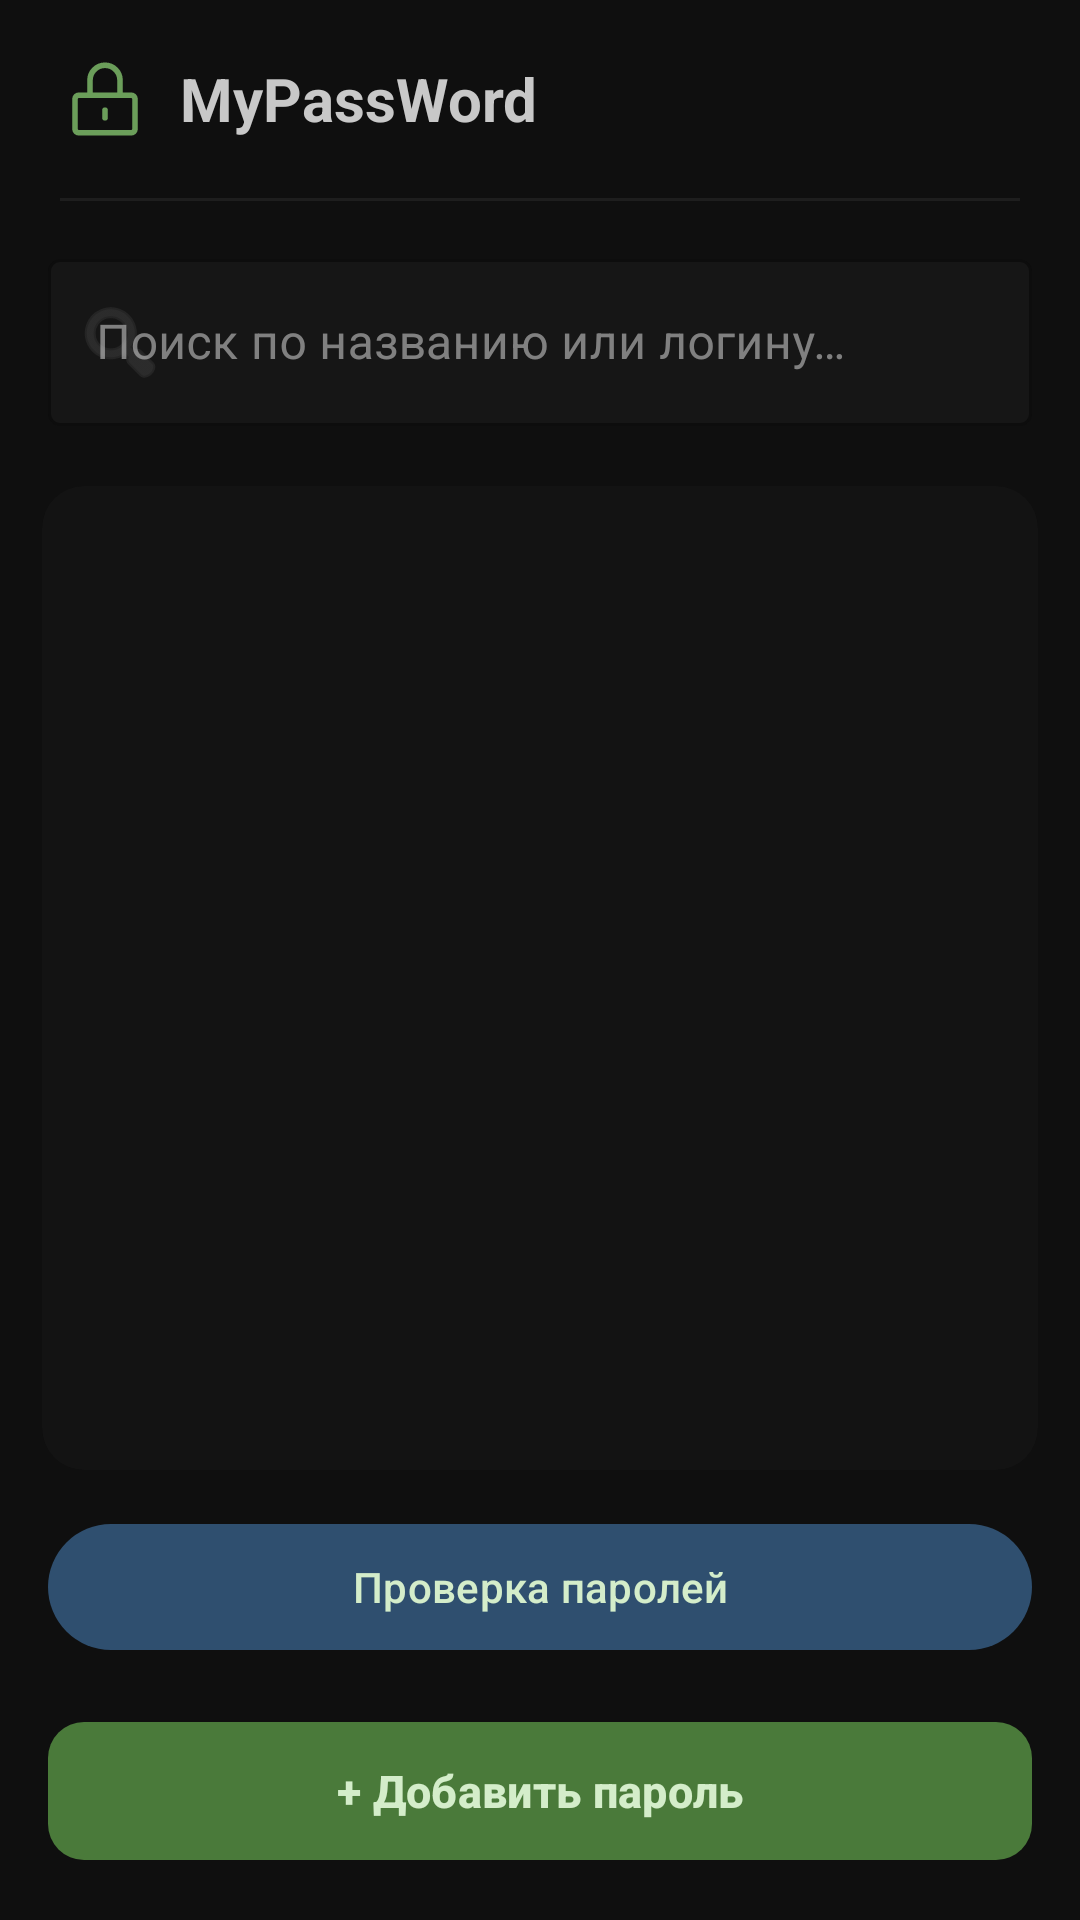

Named icons in this screenshot (1080*1920) and their bounding boxes, [left=x1, top=y1, right=x2, bottom=y2]:
lock: [left=72, top=62, right=138, bottom=136]
